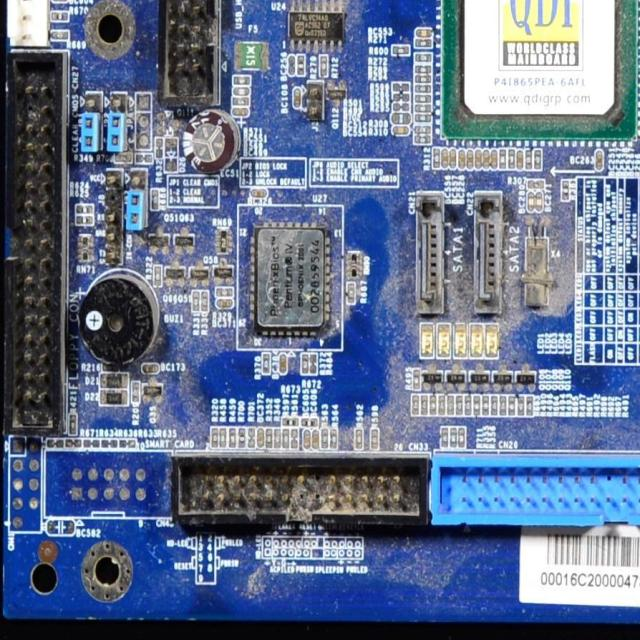IC: (436, 0, 640, 147), (248, 220, 332, 340), (284, 0, 349, 54)
capacitor: (180, 110, 242, 172), (216, 298, 234, 310), (294, 86, 302, 111), (490, 148, 498, 173), (535, 191, 544, 213), (416, 27, 432, 39), (483, 148, 491, 172), (516, 149, 524, 172), (526, 191, 534, 214), (280, 352, 288, 375), (393, 126, 411, 136), (466, 150, 475, 170), (594, 151, 604, 169), (249, 188, 267, 198), (142, 362, 160, 372), (442, 147, 450, 168), (475, 148, 482, 171), (458, 150, 466, 169), (304, 429, 312, 448), (232, 107, 248, 116), (312, 430, 320, 448), (450, 148, 457, 168), (258, 427, 264, 446), (51, 0, 68, 3)
connector: (5, 44, 69, 440), (170, 454, 430, 533), (430, 450, 640, 530), (158, 0, 217, 104), (414, 189, 446, 315), (473, 188, 503, 314), (8, 0, 50, 45)
resistor: (370, 426, 380, 451), (392, 43, 411, 56), (507, 395, 518, 417), (524, 148, 534, 172), (346, 282, 356, 305), (75, 215, 94, 227), (458, 425, 467, 450), (526, 179, 546, 190), (560, 179, 570, 201), (490, 395, 500, 417), (237, 426, 247, 448), (246, 426, 256, 448), (414, 62, 432, 74), (282, 416, 300, 428), (533, 150, 543, 171), (200, 290, 209, 313), (262, 351, 271, 374), (438, 394, 447, 417), (319, 56, 329, 76), (232, 76, 252, 86), (75, 204, 95, 214), (414, 113, 432, 124), (413, 124, 431, 135), (432, 148, 441, 170), (472, 394, 481, 416), (447, 394, 456, 416), (456, 395, 465, 417), (463, 395, 472, 417), (508, 146, 516, 170), (526, 394, 534, 418), (413, 53, 432, 63), (413, 74, 432, 84), (216, 287, 235, 297), (440, 426, 449, 447), (412, 368, 420, 391), (421, 394, 429, 417), (228, 426, 236, 449), (517, 396, 526, 416), (290, 428, 299, 448), (192, 292, 200, 314), (132, 382, 140, 404), (482, 396, 490, 418), (450, 426, 458, 448), (282, 429, 290, 451), (415, 94, 432, 104), (414, 134, 431, 144), (500, 396, 508, 417), (219, 428, 227, 449), (274, 428, 282, 449), (330, 428, 338, 449), (499, 148, 506, 171), (297, 56, 305, 76), (301, 354, 309, 374), (429, 395, 437, 415), (212, 427, 220, 447), (266, 428, 274, 448), (412, 395, 419, 417), (300, 418, 319, 426), (355, 429, 362, 450), (414, 85, 432, 93), (414, 104, 432, 112), (322, 428, 329, 448), (416, 40, 432, 48)
transistor: (163, 258, 187, 288), (491, 362, 514, 393), (469, 362, 491, 394), (172, 226, 198, 253), (444, 363, 468, 392), (214, 255, 236, 286), (188, 257, 210, 288), (147, 226, 171, 254), (142, 376, 164, 406), (422, 363, 444, 392), (515, 362, 536, 392), (326, 80, 345, 106)
